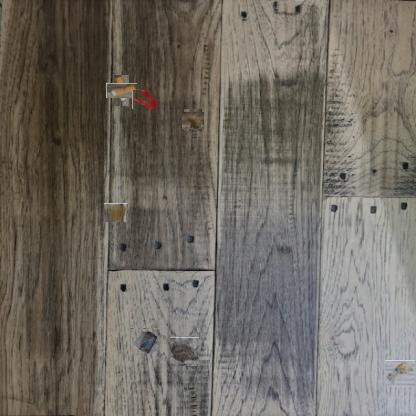dirty: (386, 358, 416, 388), (170, 337, 199, 365), (130, 328, 160, 354), (110, 79, 133, 102), (184, 110, 204, 130)
liquid: (132, 89, 157, 109), (104, 203, 128, 222)
